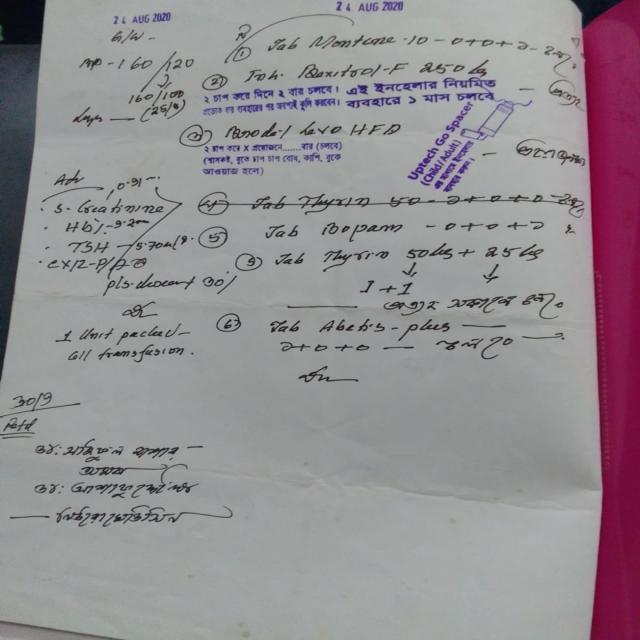Abetis Plus: (316, 317, 456, 339)
Bexitrol F: (292, 55, 414, 82)
Bopam: (318, 218, 409, 241)
Brodil Levo HFA: (221, 120, 408, 141)
Montene: (302, 26, 432, 53)
Thyrin: (318, 241, 399, 274)
